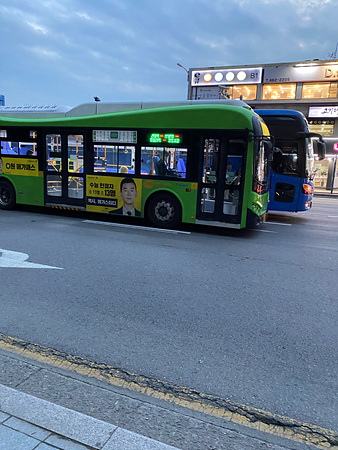entrance: (198, 128, 245, 226)
